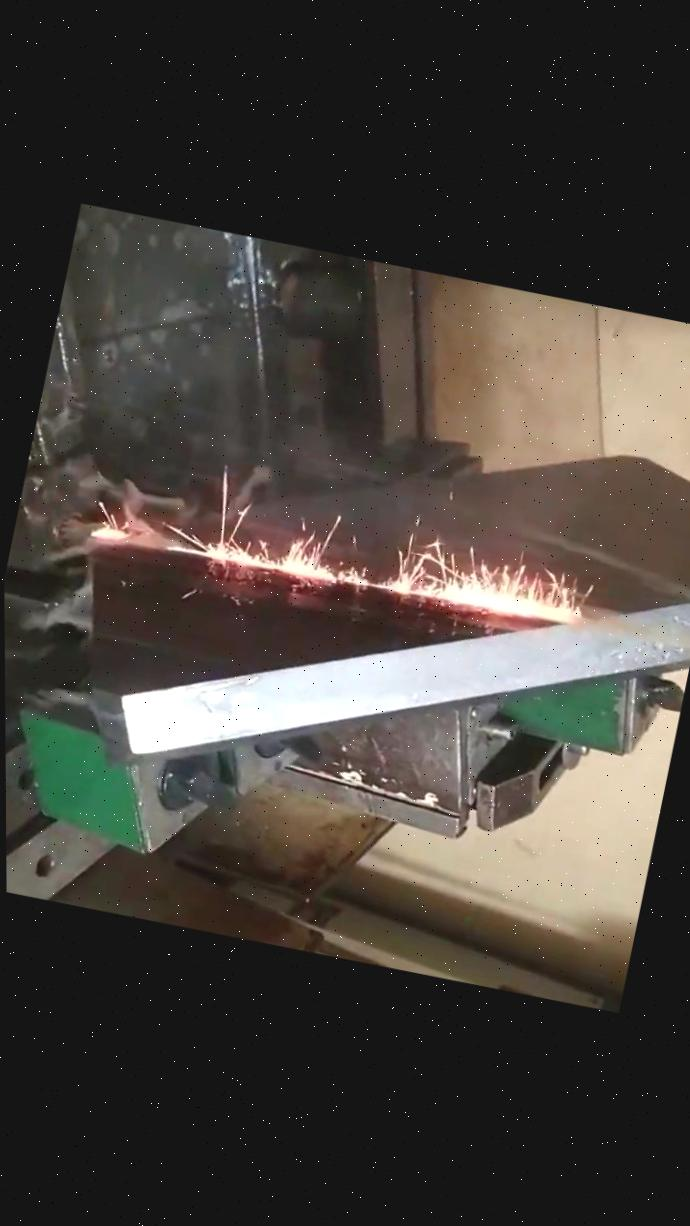fire: (59, 494, 638, 632)
